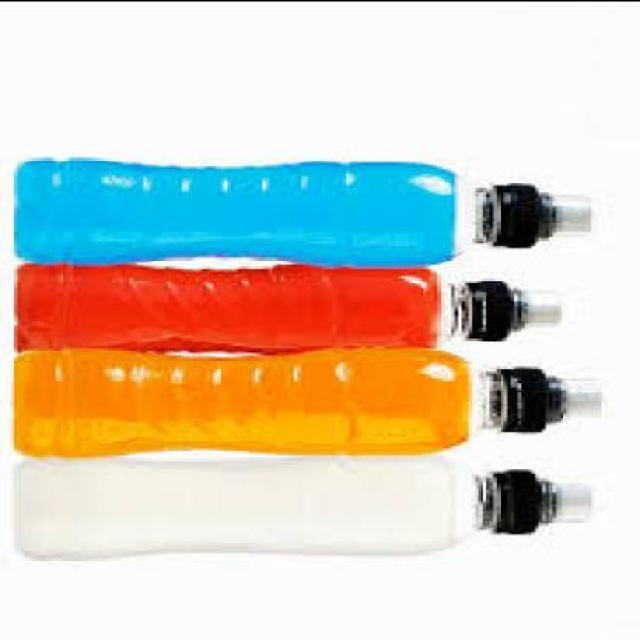PLASTIC: (21, 346, 612, 459), (17, 160, 598, 272), (21, 444, 594, 556), (18, 263, 570, 355), (490, 368, 616, 435), (487, 470, 598, 538), (486, 186, 602, 251), (462, 280, 570, 342)
